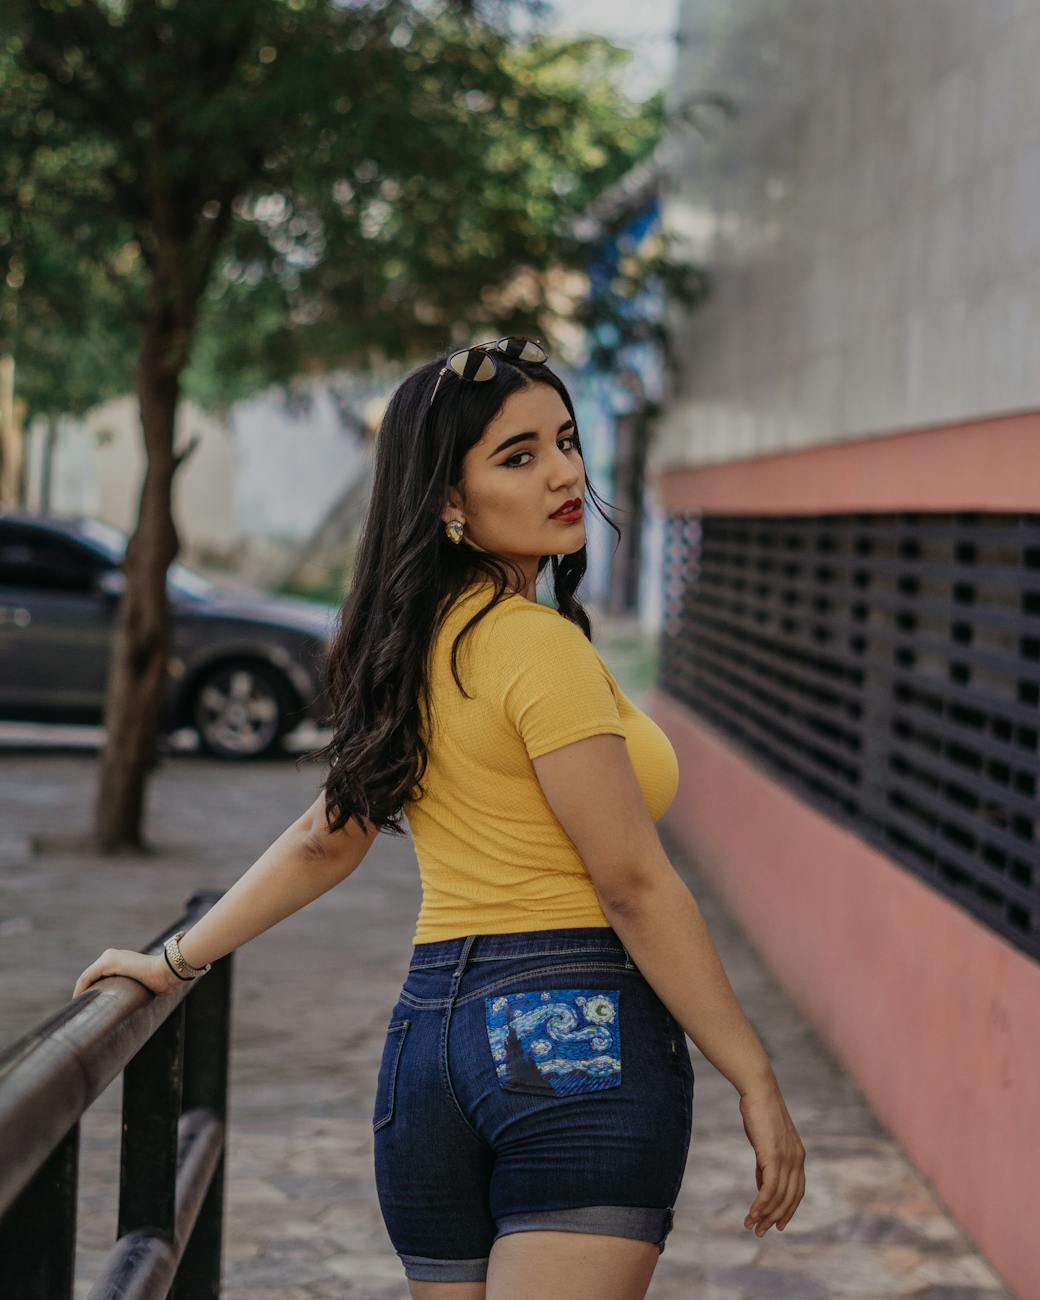shorts: (345, 918, 711, 1273)
